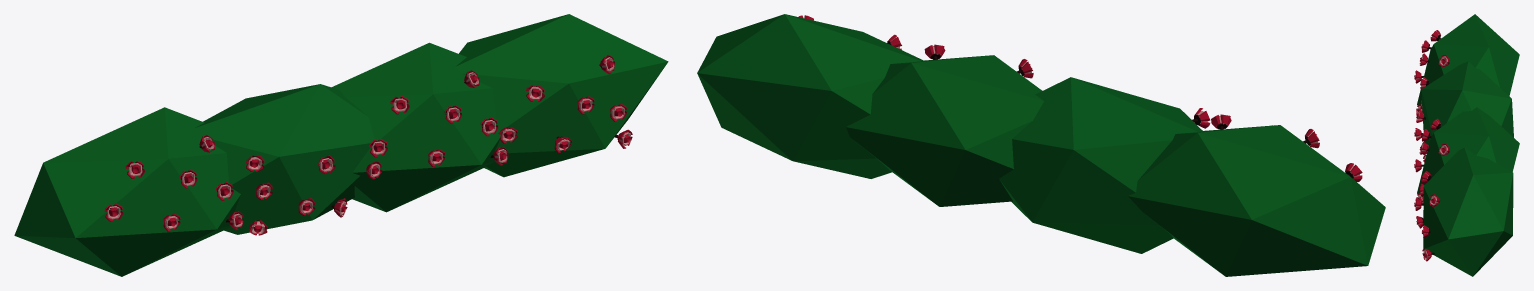
The model's file is TT_Rose_bush.fbx.
The picture shows the model from 3 angles, left to right: view 1: azimuth 30°, elevation 25°; view 2: azimuth 150°, elevation 25°; view 3: azimuth 270°, elevation 25°; orthographic projection. The views are drawn at different scales.
Parts seen in each view (by area): view 1: Rose_bush; view 2: Rose_bush; view 3: Rose_bush.
Boxes of the visible parts, <box> form: Rose_bush: <box>14,14,668,276</box>; Rose_bush: <box>697,14,1385,276</box>; Rose_bush: <box>1414,14,1519,276</box>.
Bounding box in the file's own units: 730 × 156 × 155.
